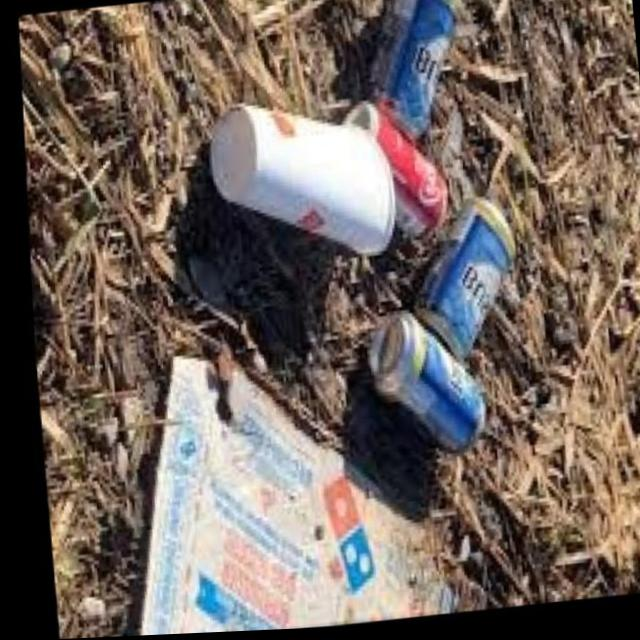clothes: (399, 168, 531, 385), (343, 297, 497, 481), (331, 104, 453, 249), (357, 0, 475, 146)
leaf: (161, 30, 395, 278)
trash: (96, 332, 480, 637)
